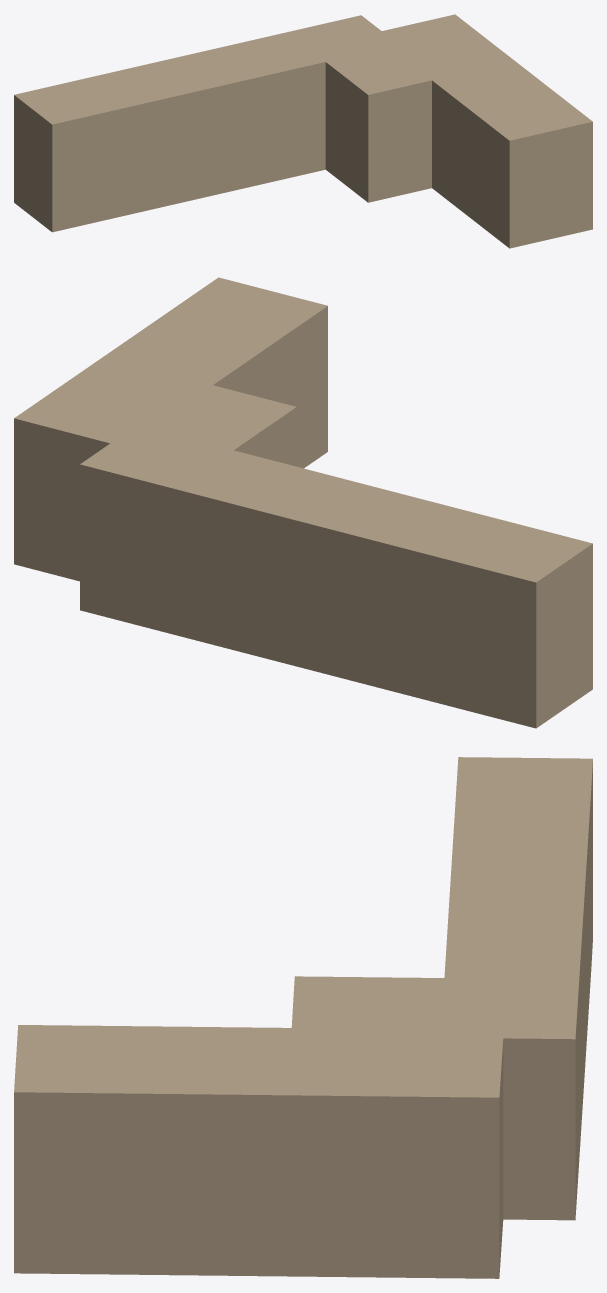
Rendered from bld_99739289.dae.
3 views of the same model, one above another, from view 1: azimuth 30°, elevation 25°; view 2: azimuth 150°, elevation 25°; view 3: azimuth 270°, elevation 25° (orthographic). The views are drawn at different scales.
Parts seen in each view (by area): view 1: bld_99739289; view 2: bld_99739289; view 3: bld_99739289.
Boxes of the visible parts, box(x1,y1,x2,y2) form: bld_99739289: box(14, 14, 592, 248); bld_99739289: box(14, 277, 592, 728); bld_99739289: box(14, 757, 592, 1278).
Size of the model in its own units: 32.26 by 23.17 by 8.
